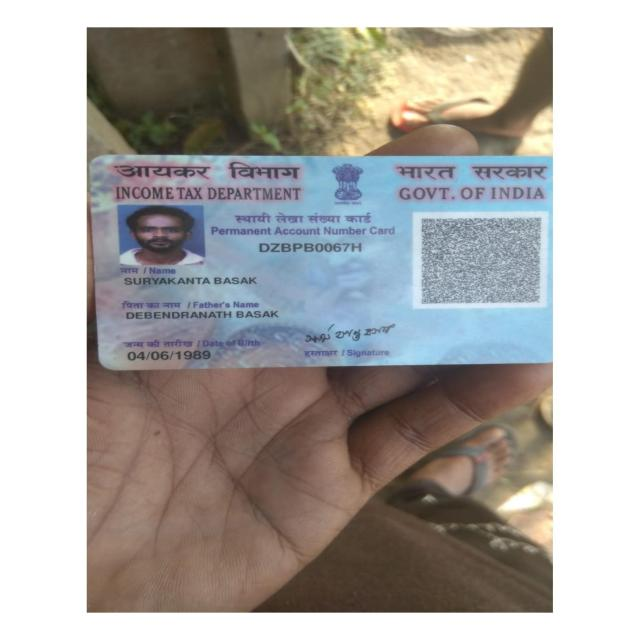pan_card: (88, 151, 558, 366)
